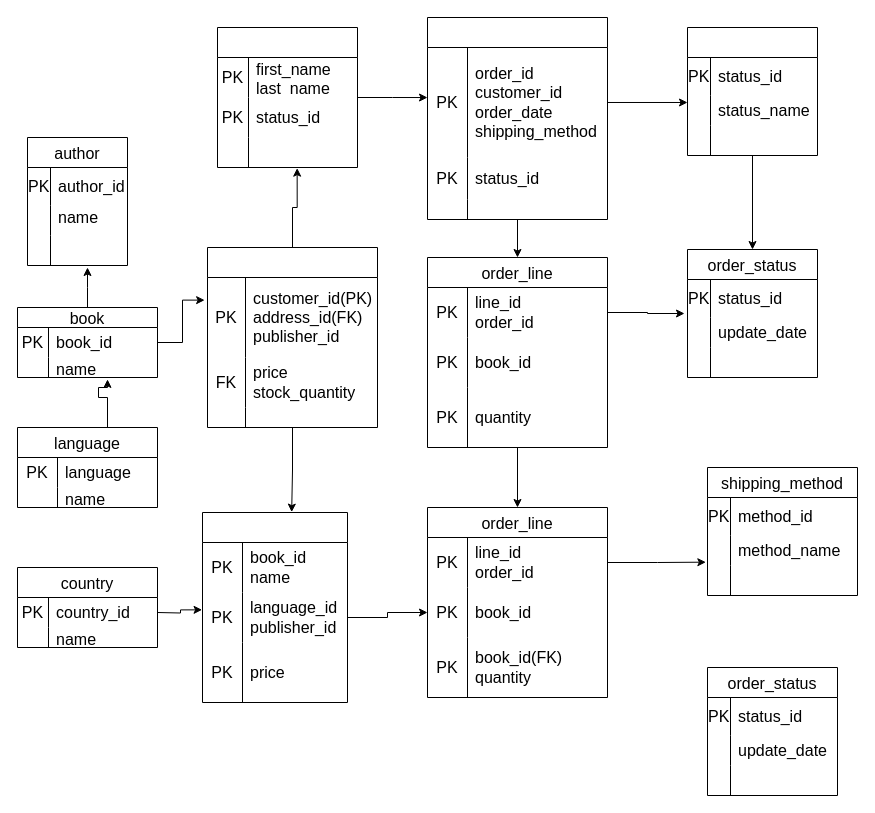
This 875x813 diagram has some shape labels left out. Each missing label, with the box of its shape:
address: (202, 512, 348, 702)
CUST_order: (426, 16, 608, 220)
customer: (216, 26, 358, 168)
customer_address: (206, 246, 378, 428)
status_price: (686, 26, 818, 156)
